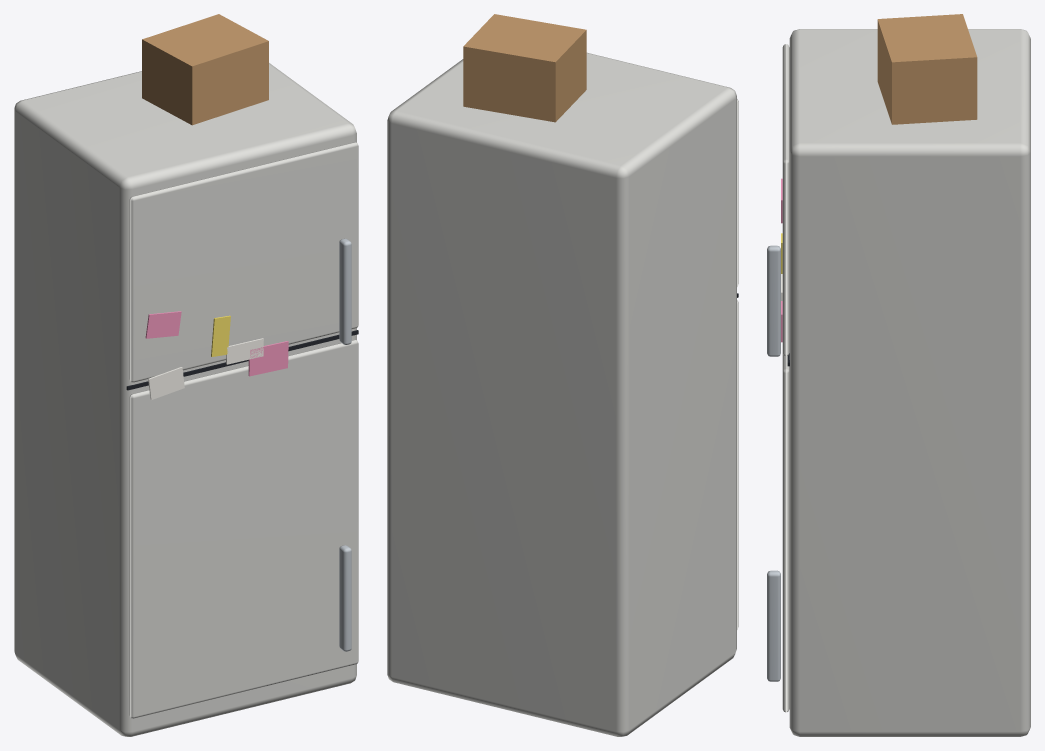
The model's file is Fridge.fbx.
3 views of the same model, side by side, from view 1: azimuth 30°, elevation 25°; view 2: azimuth 150°, elevation 25°; view 3: azimuth 270°, elevation 25° (orthographic). The views are drawn at different scales.
Parts seen in each view (by area): view 1: FridgeBody; view 2: FridgeBody; view 3: FridgeBody.
Boxes of the visible parts, x1=… form: FridgeBody: x1=14, y1=14, x2=358, y2=736; FridgeBody: x1=387, y1=14, x2=738, y2=736; FridgeBody: x1=767, y1=14, x2=1030, y2=736.
Bounding box in the file's own units: 0.84 × 2.1 × 0.765.
